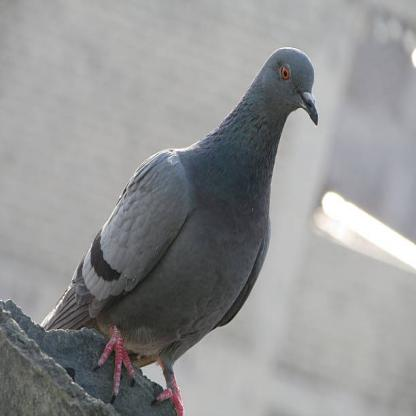Rock Pigeon: (55, 46, 319, 357)
